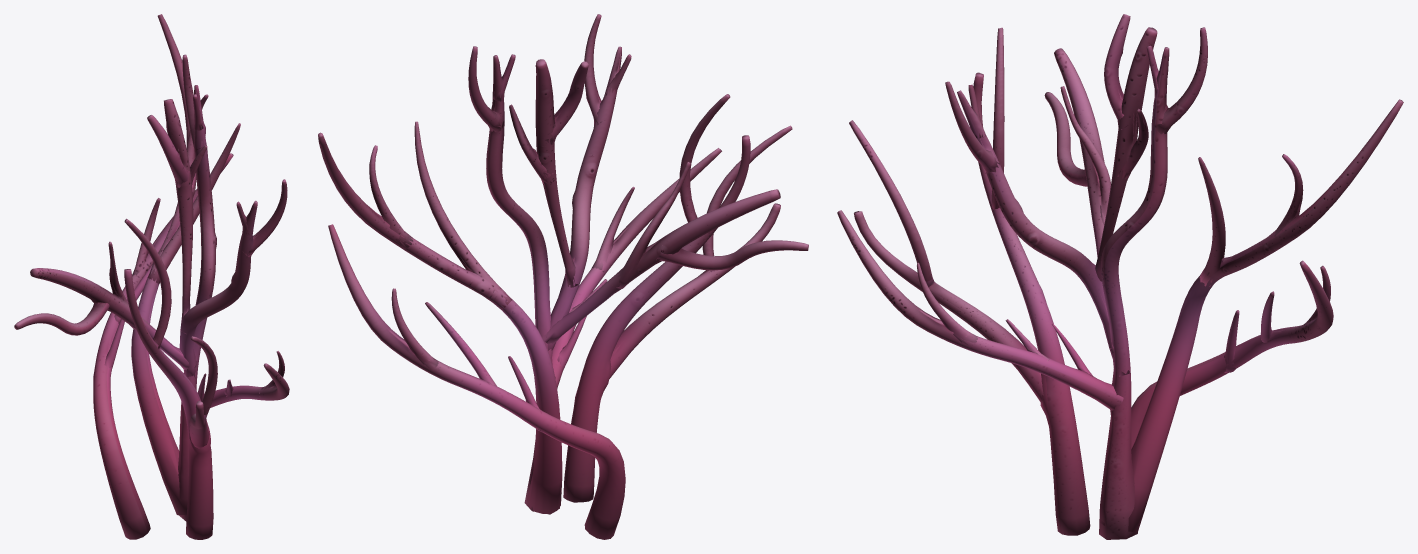
Rendered from Plants_5.fbx.
The picture shows the model from 3 angles, left to right: view 1: azimuth 30°, elevation 25°; view 2: azimuth 150°, elevation 25°; view 3: azimuth 270°, elevation 25°; orthographic projection. The views are drawn at different scales.
Visible parts, largest first — view 1: low poly plants 3.001; view 2: low poly plants 3.001; view 3: low poly plants 3.001.
Part boxes in pixels (x1,y1,x2,y2): low poly plants 3.001: (14, 14, 289, 539); low poly plants 3.001: (318, 14, 808, 539); low poly plants 3.001: (837, 14, 1403, 539).
Size of the model in its own units: 6.39 by 8.28 by 7.97.
1 material, 1 textured.
